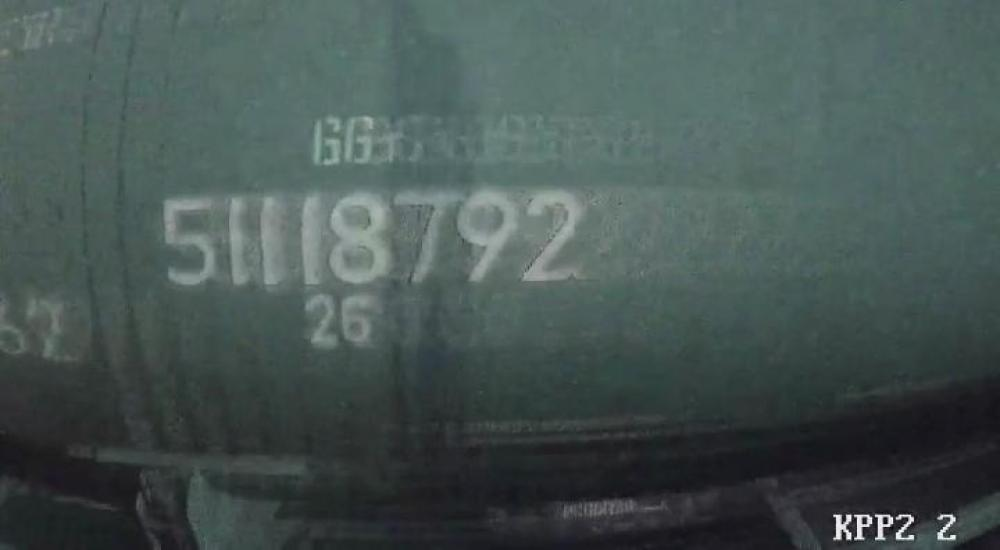Wagon-number: (156, 180, 592, 292)
